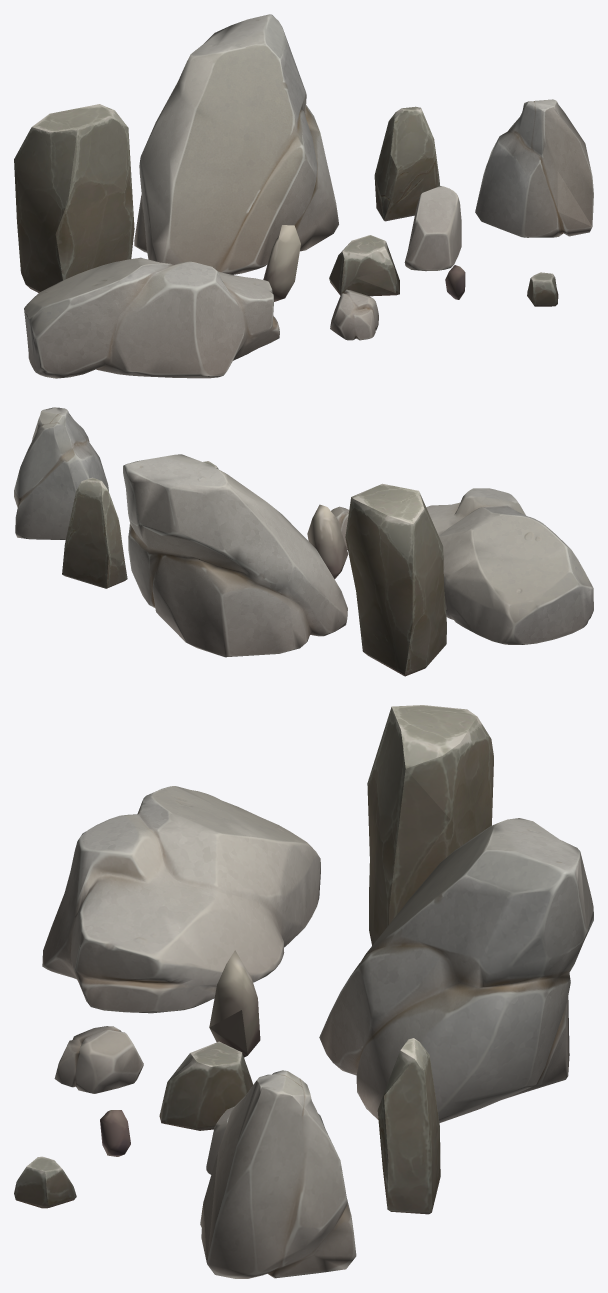
File: free_pack_-_rocks_stylized.glb
3 views of the same model, one above another, from view 1: azimuth 30°, elevation 25°; view 2: azimuth 150°, elevation 25°; view 3: azimuth 270°, elevation 25° (orthographic). The views are drawn at different scales.
Parts seen in each view (by area): view 1: SM_Rocks_04, SM_Rocks_03, SM_Rocks_09, SM_Rocks_05, SM_Rocks_08, SM_Rocks_02, SM_Rocks_07, SM_Rocks_01, SM_Rocks_11, SM_Rocks_06, SM_Rocks_10; view 2: SM_Rocks_04, SM_Rocks_03, SM_Rocks_09, SM_Rocks_05, SM_Rocks_08, SM_Rocks_11; view 3: SM_Rocks_04, SM_Rocks_03, SM_Rocks_05, SM_Rocks_09, SM_Rocks_08, SM_Rocks_07, SM_Rocks_01, SM_Rocks_11, SM_Rocks_06, SM_Rocks_10.
Boxes of the visible parts, x1=… form: SM_Rocks_04: x1=134, y1=14, x2=338, y2=274; SM_Rocks_03: x1=24, y1=257, x2=279, y2=378; SM_Rocks_09: x1=14, y1=104, x2=134, y2=292; SM_Rocks_05: x1=475, y1=99, x2=593, y2=237; SM_Rocks_08: x1=374, y1=106, x2=439, y2=221; SM_Rocks_02: x1=404, y1=186, x2=461, y2=271; SM_Rocks_07: x1=329, y1=235, x2=399, y2=296; SM_Rocks_01: x1=330, y1=289, x2=378, y2=340; SM_Rocks_11: x1=263, y1=225, x2=300, y2=301; SM_Rocks_06: x1=527, y1=272, x2=558, y2=306; SM_Rocks_10: x1=445, y1=265, x2=465, y2=299; SM_Rocks_04: x1=123, y1=454, x2=347, y2=657; SM_Rocks_03: x1=426, y1=488, x2=593, y2=644; SM_Rocks_09: x1=345, y1=483, x2=446, y2=676; SM_Rocks_05: x1=14, y1=407, x2=108, y2=539; SM_Rocks_08: x1=62, y1=477, x2=127, y2=588; SM_Rocks_11: x1=307, y1=504, x2=348, y2=578; SM_Rocks_04: x1=319, y1=818, x2=593, y2=1122; SM_Rocks_03: x1=42, y1=786, x2=320, y2=1013; SM_Rocks_05: x1=200, y1=1070, x2=356, y2=1278; SM_Rocks_09: x1=367, y1=705, x2=493, y2=945; SM_Rocks_08: x1=377, y1=1038, x2=440, y2=1214; SM_Rocks_07: x1=159, y1=1041, x2=253, y2=1130; SM_Rocks_01: x1=54, y1=1026, x2=143, y2=1093; SM_Rocks_11: x1=209, y1=950, x2=260, y2=1057; SM_Rocks_06: x1=14, y1=1156, x2=76, y2=1208; SM_Rocks_10: x1=100, y1=1110, x2=130, y2=1156.
Size of the model in its own units: 5.59 by 1.7 by 3.35.
Materials: 1 (1 with a texture image).
